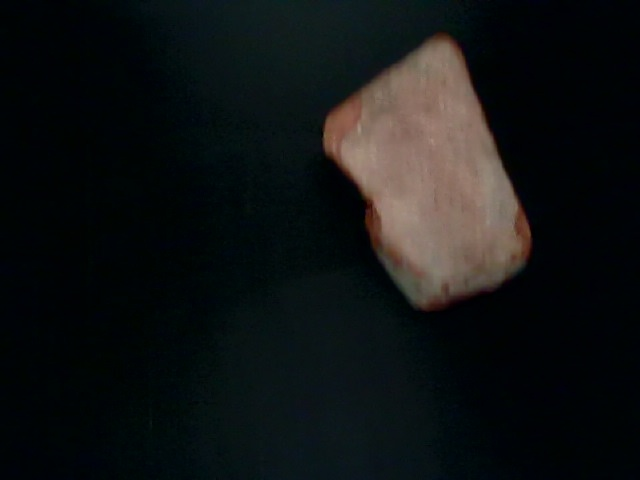KHSLJ: (1, 25, 293, 313)
